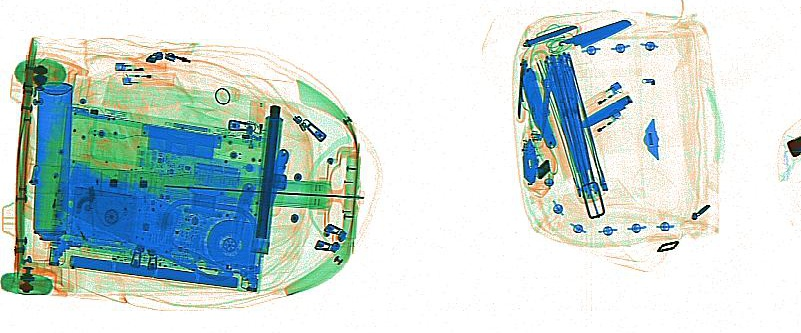knife: (51, 163, 233, 282), (516, 18, 636, 61), (518, 67, 558, 150), (578, 94, 632, 135), (257, 148, 291, 212), (229, 179, 256, 245), (520, 23, 578, 46), (511, 55, 529, 122)
lighter: (579, 79, 625, 114), (586, 109, 621, 141), (119, 71, 175, 88), (111, 61, 167, 73)
pressure: (33, 81, 73, 241)
